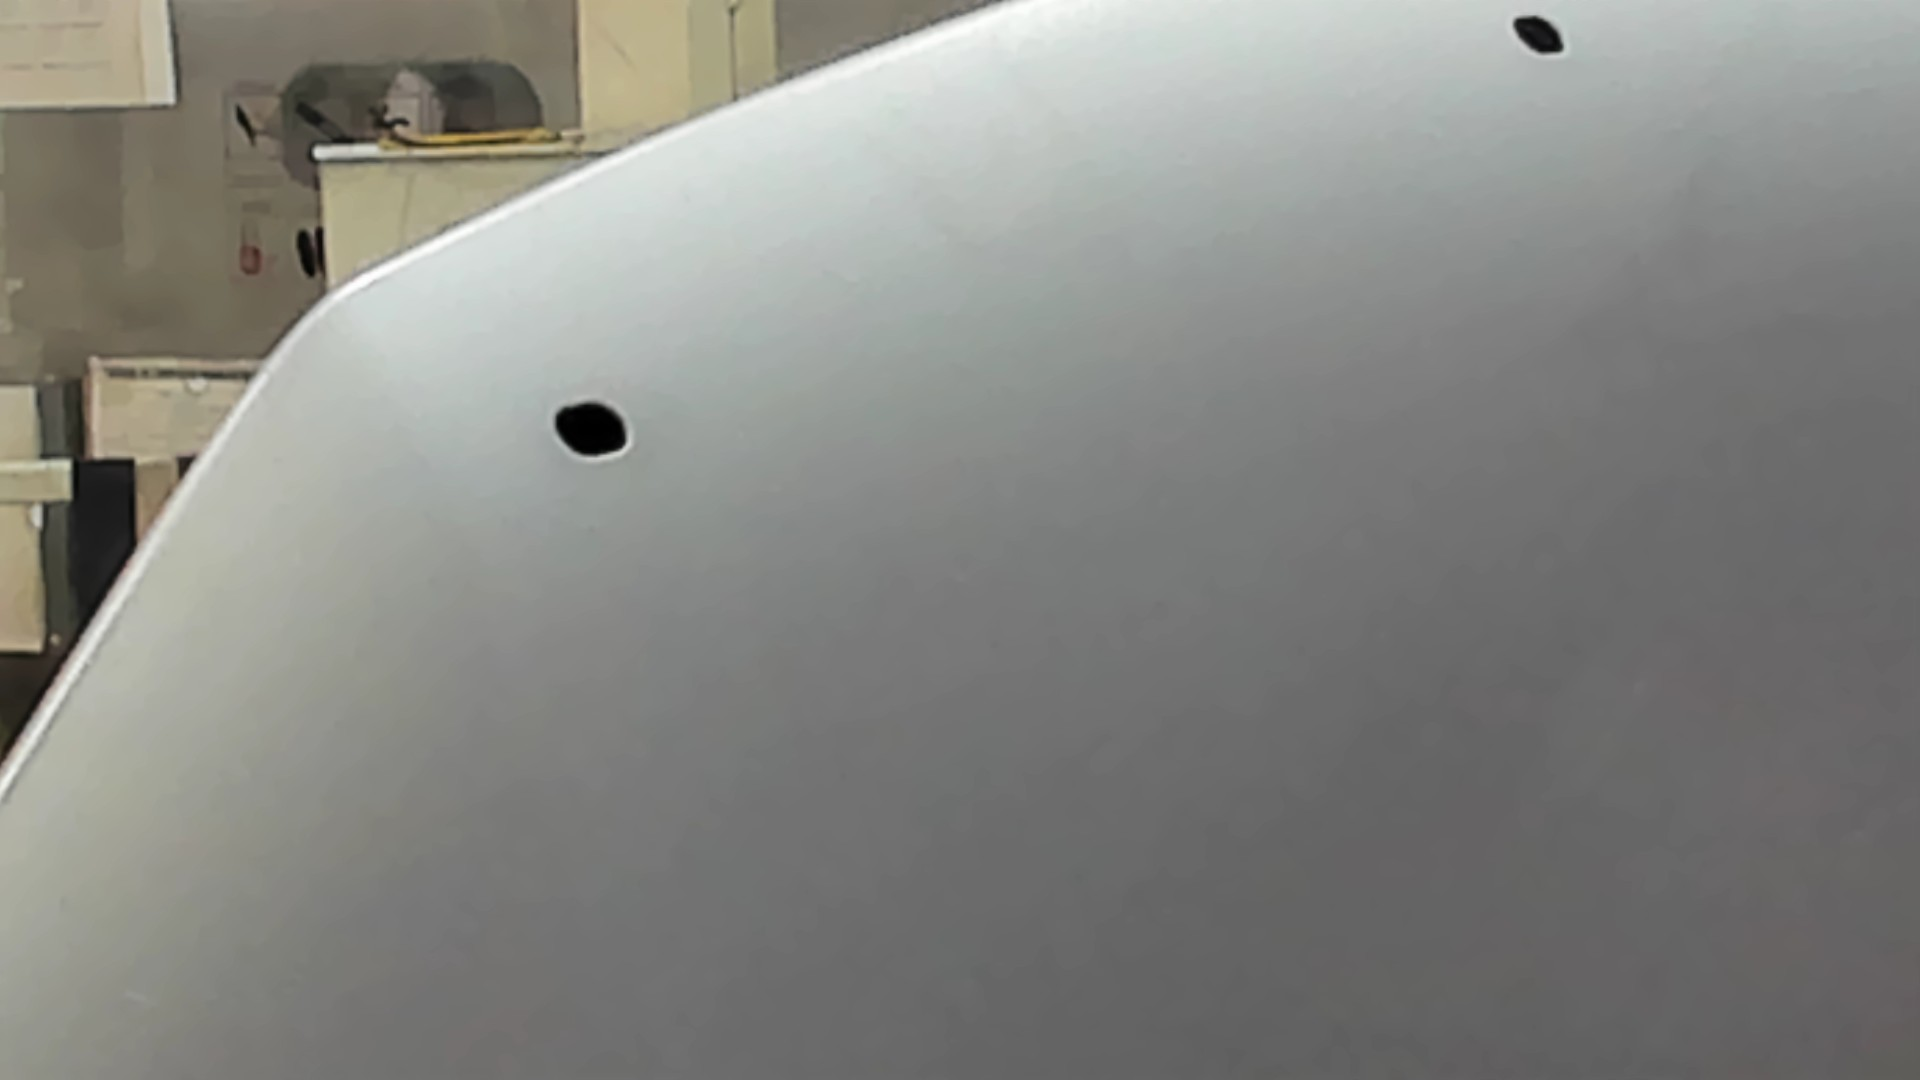Agujero: (549, 396, 637, 465), (1506, 11, 1569, 61)
